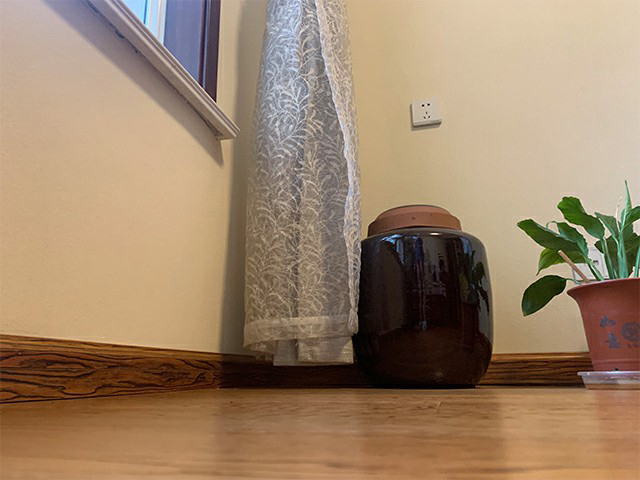curtain: (244, 1, 363, 367)
